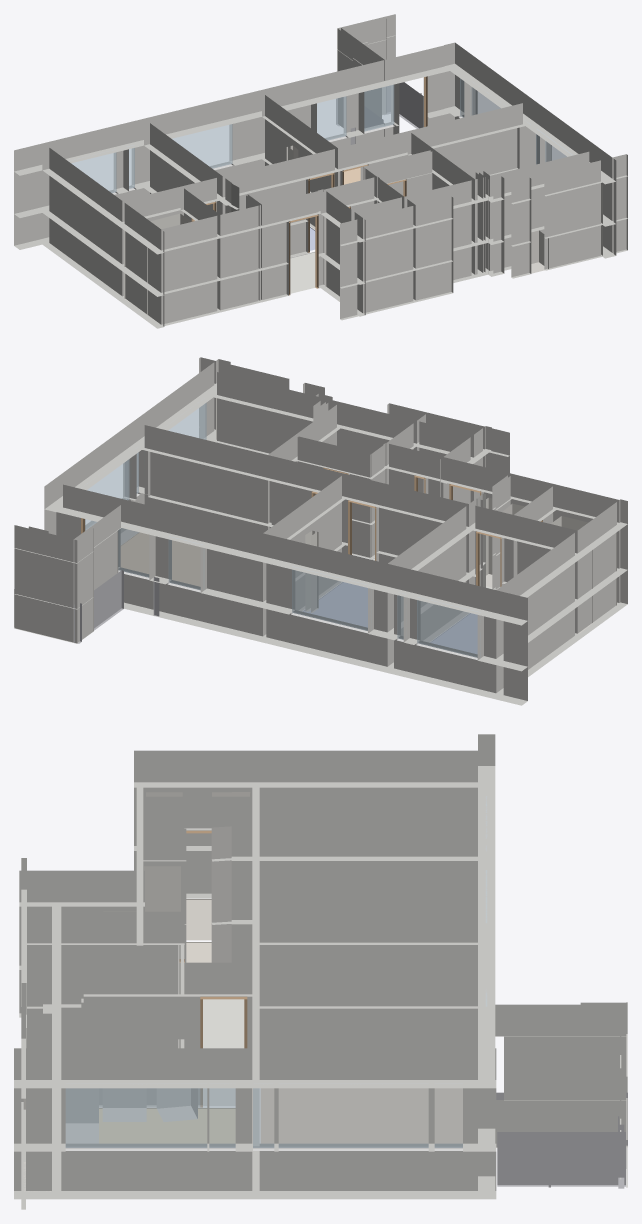
3 renders of one model, top to bottom at view 1: azimuth 30°, elevation 25°; view 2: azimuth 150°, elevation 25°; view 3: azimuth 270°, elevation 25°, orthographic. The views are drawn at different scales.
Parts seen in each view (by area): view 1: walls, window_5, railings, window_11, window_13, window_6, floor_5_Undefined, furniture_13_appliance, furniture_2_closet, door_7, window_3; view 2: walls, window_5, window_6, floor_2_Living_Room, floor_1_Bed_Room, railings, window_13, window_11, floor_0_Bed_Room, window_3, window_1; view 3: walls, floor_2_Living_Room, window_3, window_1, railings, floor_6_Kitchen, floor_5_Undefined, furniture_12_appliance, window_15, furniture_5_closet, window_9, furniture_16_sink (+5 smaller).
Boxes of the visible parts, box(x1,y1,x2,y2) form: walls: box(14, 14, 627, 328); window_5: box(172, 124, 232, 168); railings: box(336, 82, 423, 144); window_11: box(364, 84, 394, 131); window_13: box(317, 96, 346, 140); window_6: box(70, 150, 116, 192); floor_5_Undefined: box(290, 252, 315, 293); furniture_13_appliance: box(531, 230, 548, 273); furniture_2_closet: box(124, 213, 191, 305); door_7: box(289, 214, 318, 295); window_3: box(471, 82, 500, 115); walls: box(14, 357, 627, 705); window_5: box(292, 566, 370, 630); window_6: box(417, 597, 480, 657); floor_2_Living_Room: box(121, 532, 200, 586); floor_1_Bed_Room: box(303, 582, 367, 627); railings: box(14, 570, 159, 643); window_13: box(168, 536, 202, 589); window_11: box(118, 528, 149, 577); floor_0_Bed_Room: box(430, 613, 477, 653); window_3: box(85, 459, 129, 530); window_1: box(168, 403, 206, 439); walls: box(14, 734, 627, 1209); floor_2_Living_Room: box(261, 1088, 462, 1143); window_3: box(278, 1088, 428, 1147); window_1: box(65, 1088, 207, 1147); railings: box(496, 1092, 627, 1188); floor_6_Kitchen: box(99, 1108, 235, 1143); floor_5_Undefined: box(203, 999, 244, 1105); furniture_12_appliance: box(66, 1088, 98, 1143); window_15: box(434, 1088, 462, 1147); furniture_5_closet: box(144, 866, 180, 911); window_9: box(209, 1088, 235, 1147); furniture_16_sink: box(103, 1088, 146, 1121).
Size of the model in its own units: 13.49 by 2.72 by 10.52.
